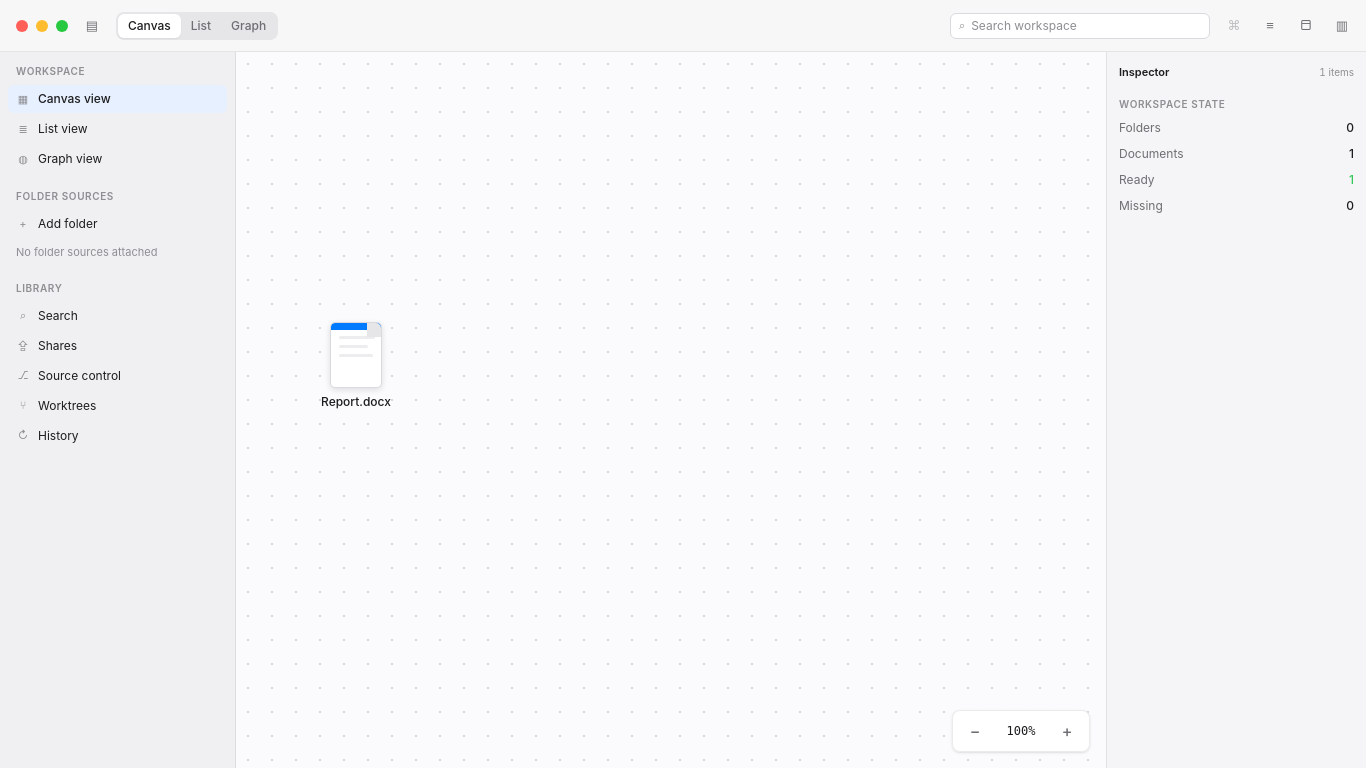
it: UI-05 context pack › surfaces a typed refusal and opens no dialog instead of showing an empty pack
Click the button with aria-label "Document: Report.docx": (356, 366) [321,322,391,409]
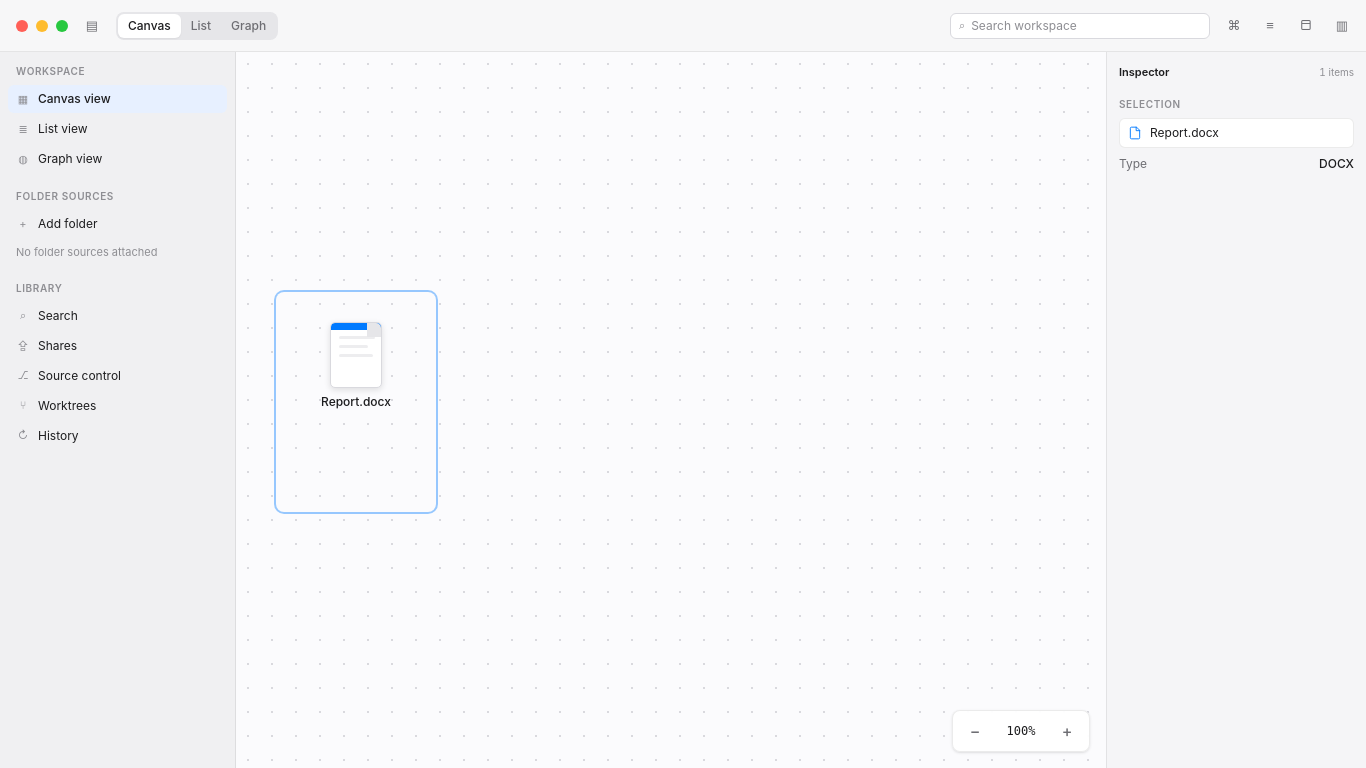
Click the button named "Context pack": (1234, 26) [1222,14,1246,38]
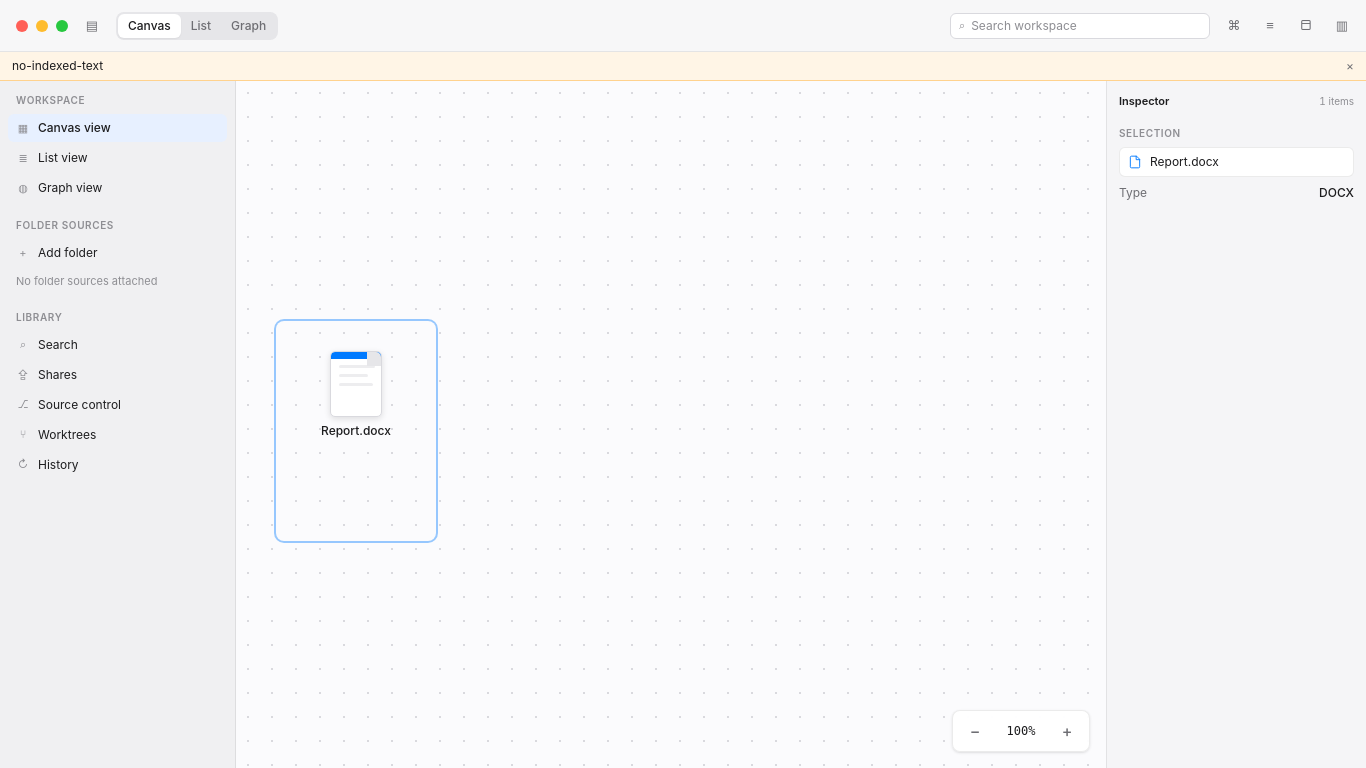
Expected: the message shows "no-indexed-text", [12,58,103,73]
